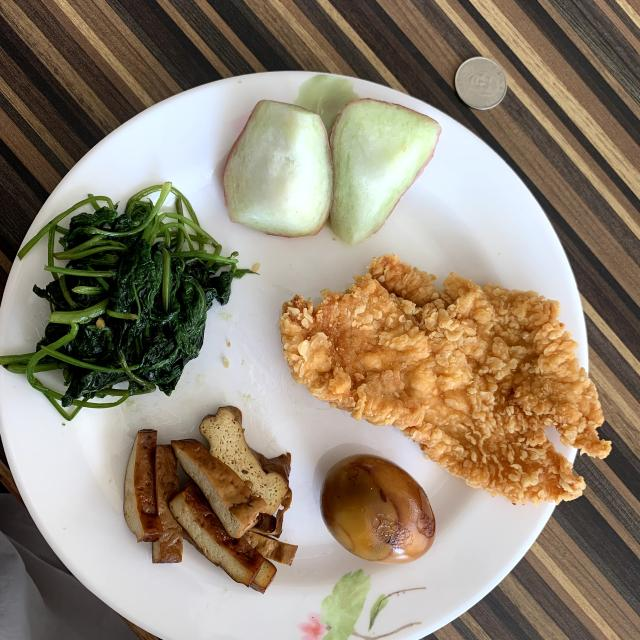coin: (455, 58, 506, 110)
firm tofu: (124, 406, 296, 592)
fried chicken cutlet: (280, 255, 610, 504)
soy egg: (320, 454, 435, 564)
sweet potato leaves: (0, 182, 249, 419)
